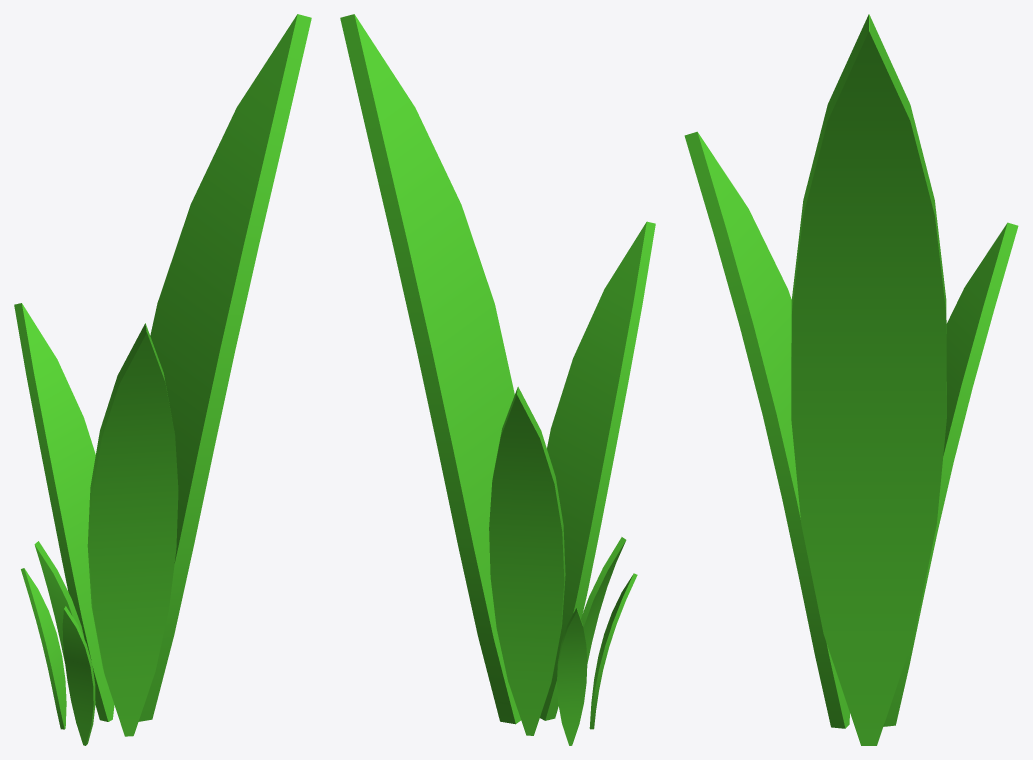
Rendered from Grama.fbx.
3 renders of one model, left to right at view 1: azimuth 30°, elevation 25°; view 2: azimuth 150°, elevation 25°; view 3: azimuth 270°, elevation 25°, orthographic. The views are drawn at different scales.
Parts seen in each view (by area): view 1: Grama; view 2: Grama; view 3: Grama.
Boxes of the visible parts, x1,y1,x2,y2 form: Grama: (14,14,311,745); Grama: (340,14,655,745); Grama: (684,14,1018,745).
Bounding box in the file's own units: 33.9 × 76.8 × 28.31.
